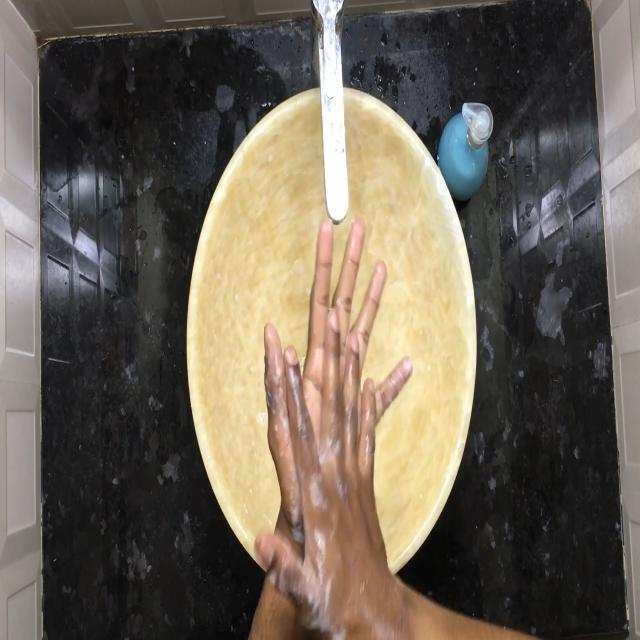step_3: (260, 207, 402, 565)
